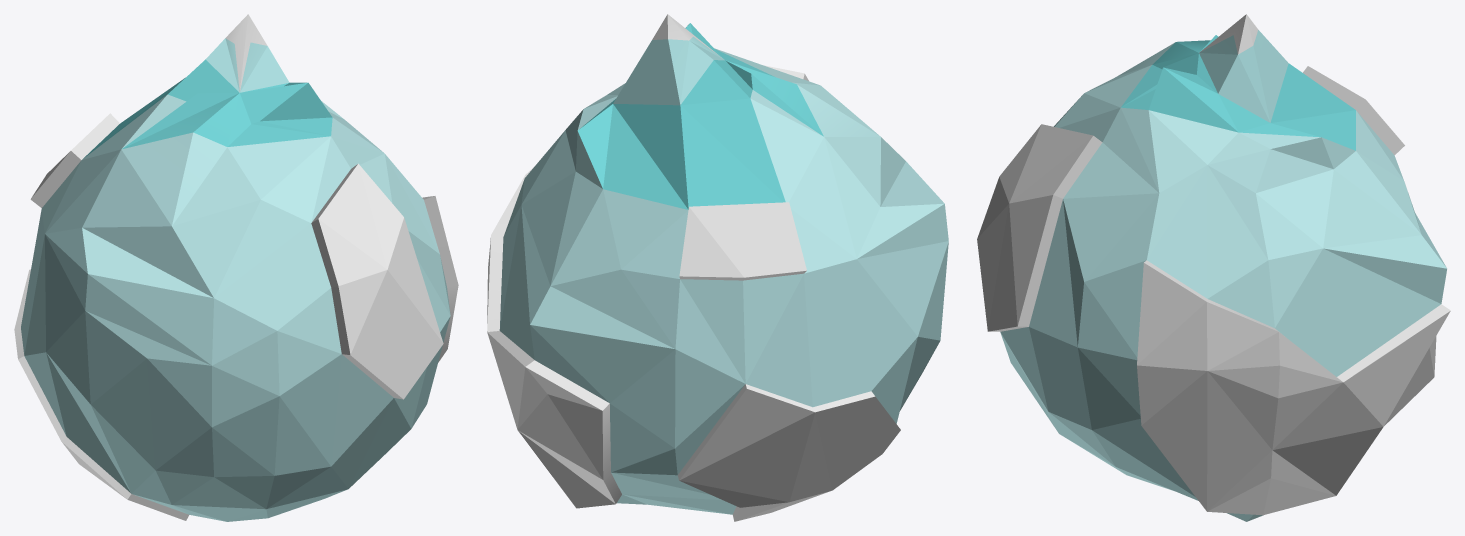
File: lowpoly_icePlanet.fbx
The picture shows the model from 3 angles, left to right: view 1: azimuth 30°, elevation 25°; view 2: azimuth 150°, elevation 25°; view 3: azimuth 270°, elevation 25°; orthographic projection. The views are drawn at different scales.
Visible parts, largest first — view 1: Ice_planet; view 2: Ice_planet; view 3: Ice_planet.
Boxes of the visible parts, x1=… form: Ice_planet: x1=14, y1=14, x2=458, y2=521; Ice_planet: x1=487, y1=14, x2=948, y2=521; Ice_planet: x1=977, y1=14, x2=1450, y2=521.
Size of the model in its own units: 19.64 by 23.01 by 20.49.
